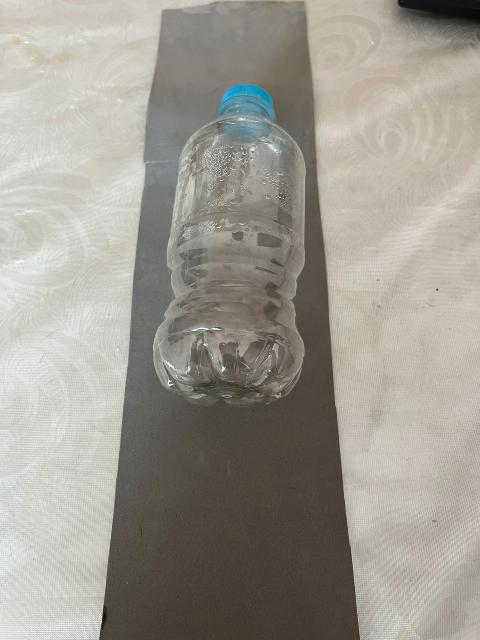PET: (129, 61, 340, 427)
